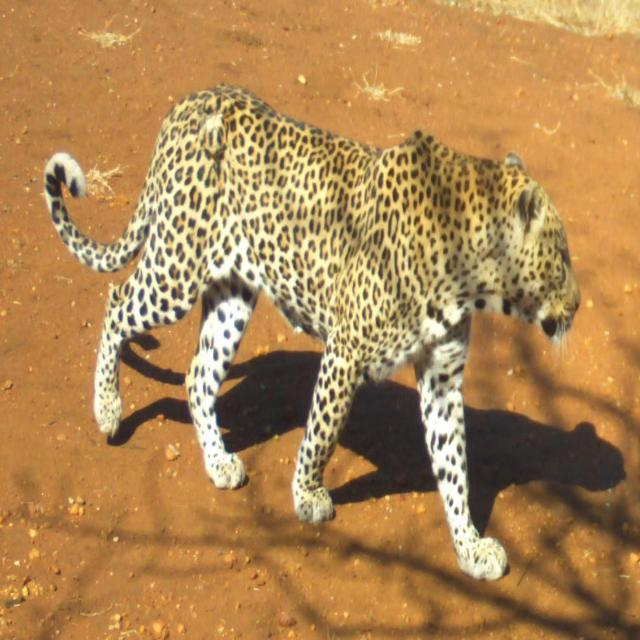Leopard: (37, 89, 584, 570)
